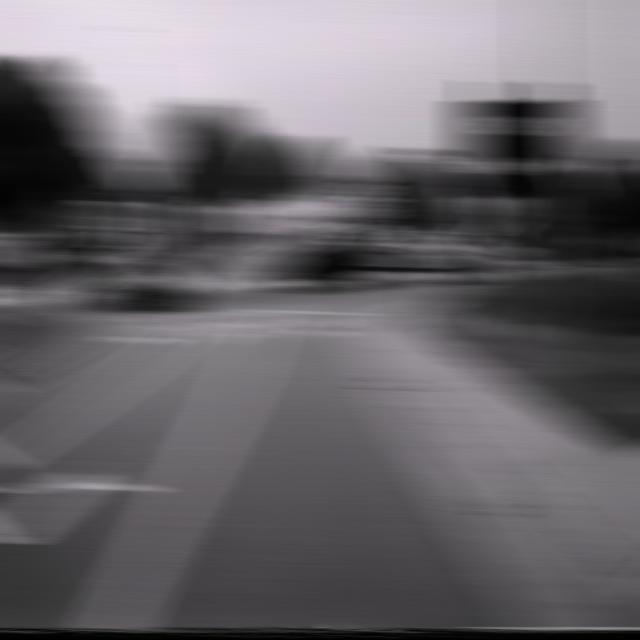stop: (406, 184, 447, 226), (38, 188, 80, 228)
